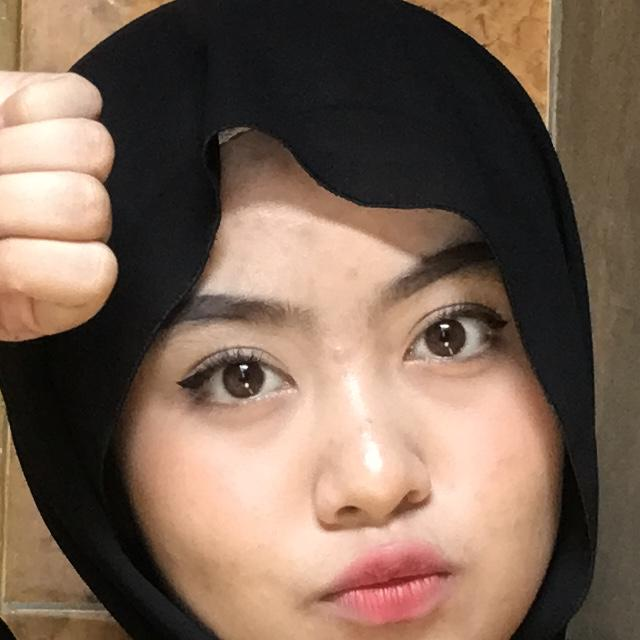sedih: (0, 0, 305, 640)
